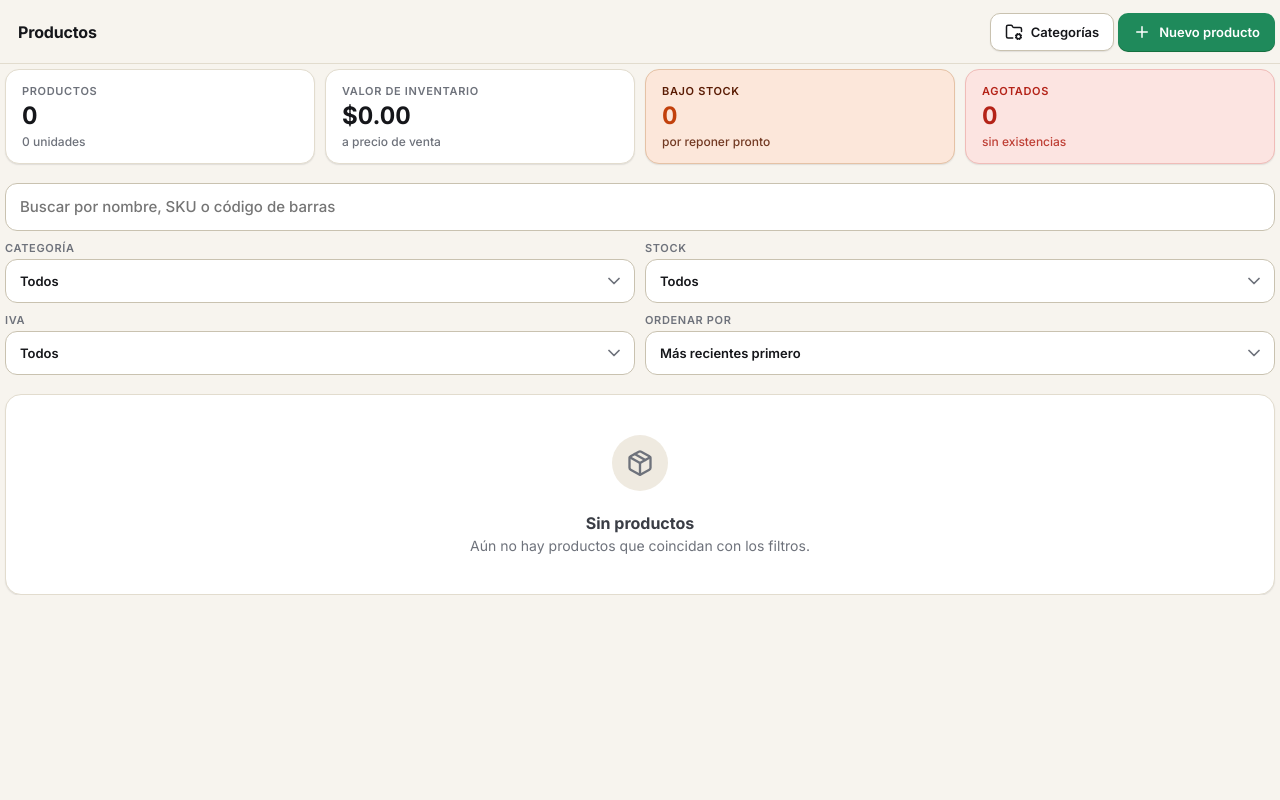
Productos — categoría del formulario › create falls back to the FIRST delivered category when the field is untouched
Step 1. Click the button "Nuevo producto" → (1197, 32), box [1118,12,1275,50]
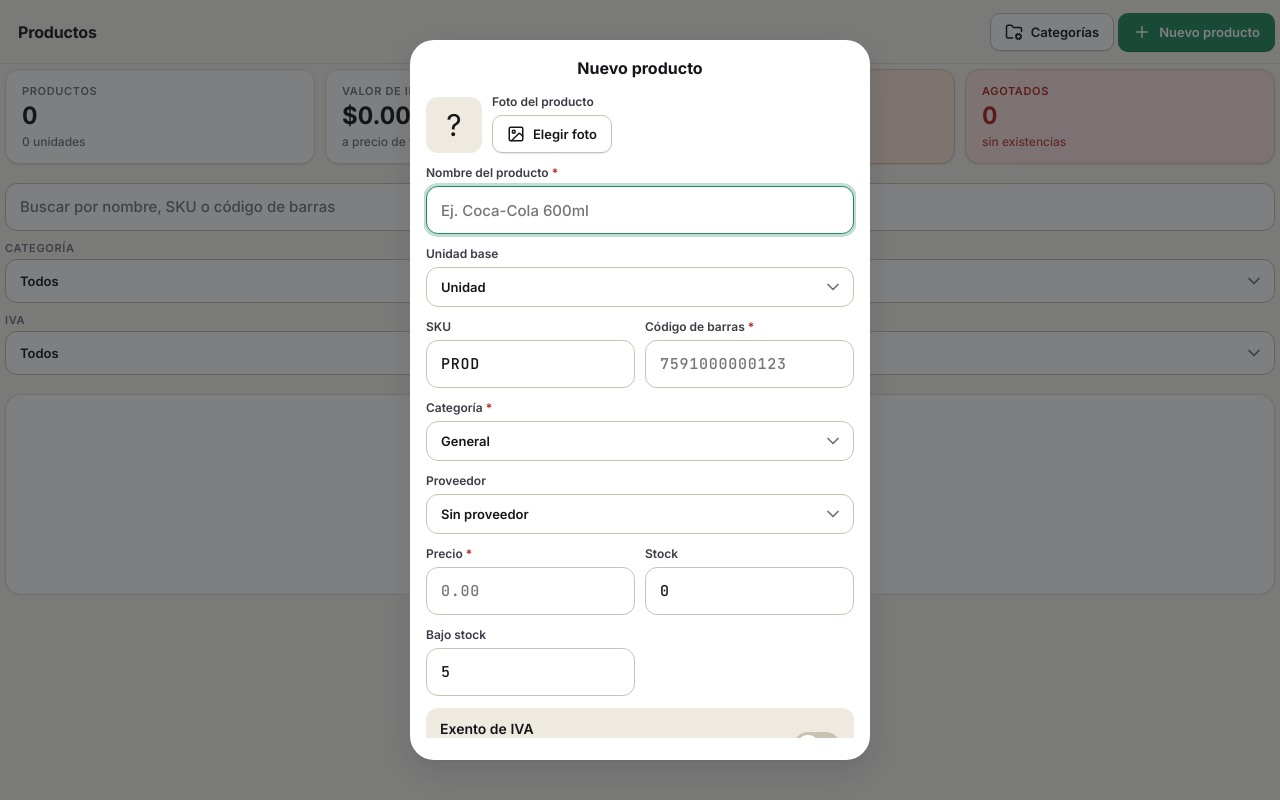
Step 2. Type "Producto nuevo" into the field with placeholder "Ej. Coca-Cola 600ml" → (640, 210), box [426,186,854,234]
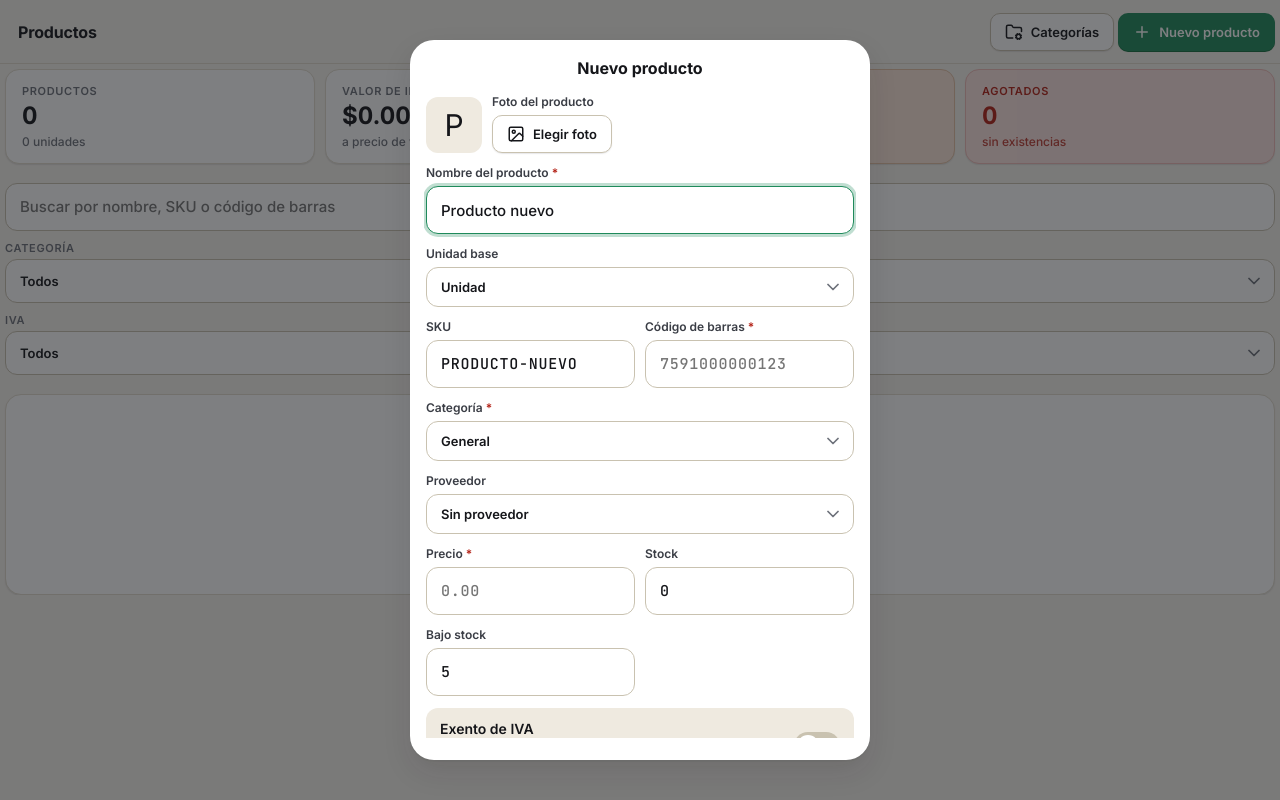
Step 3. Type "7591111111" into the field with placeholder "7591000000123" → (750, 364), box [645,340,854,388]
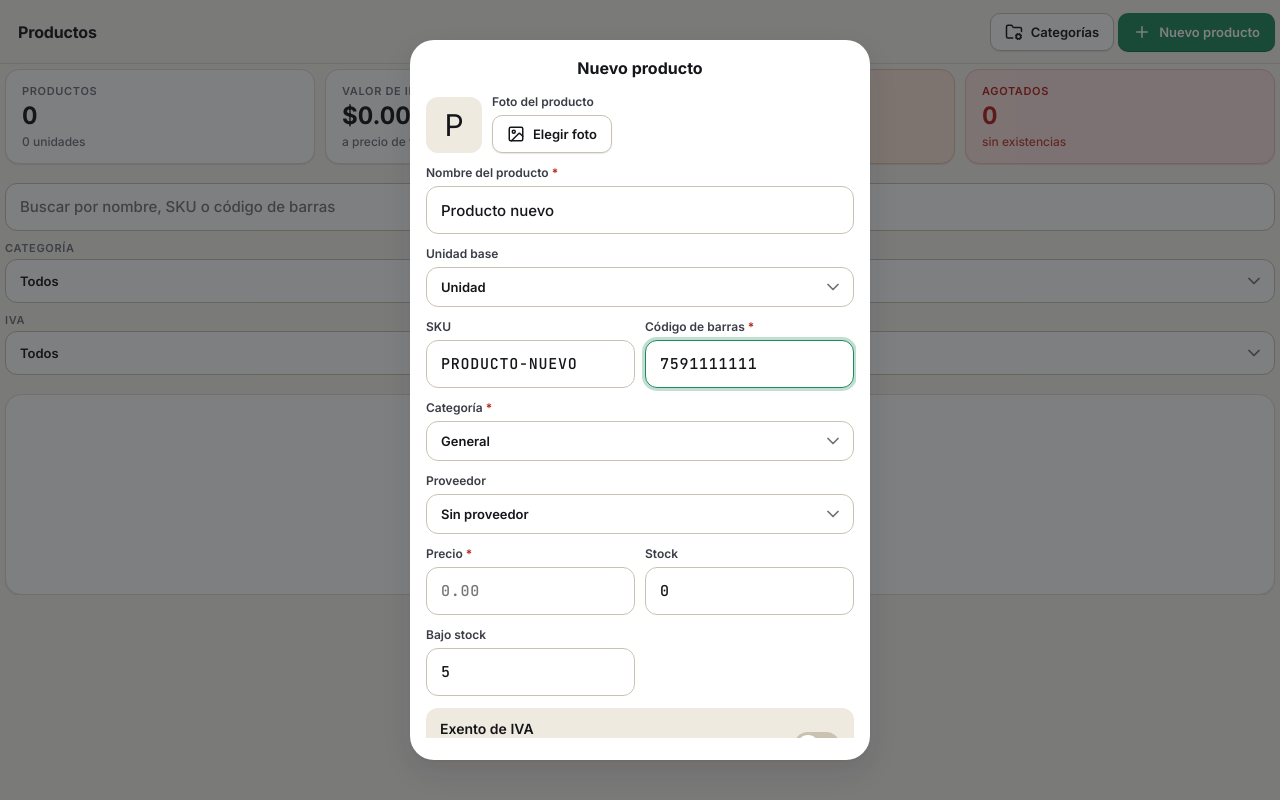
Step 4. Type "3.50" into the field with placeholder "0.00" → (530, 591), box [426,567,635,615]
(page scrolled)
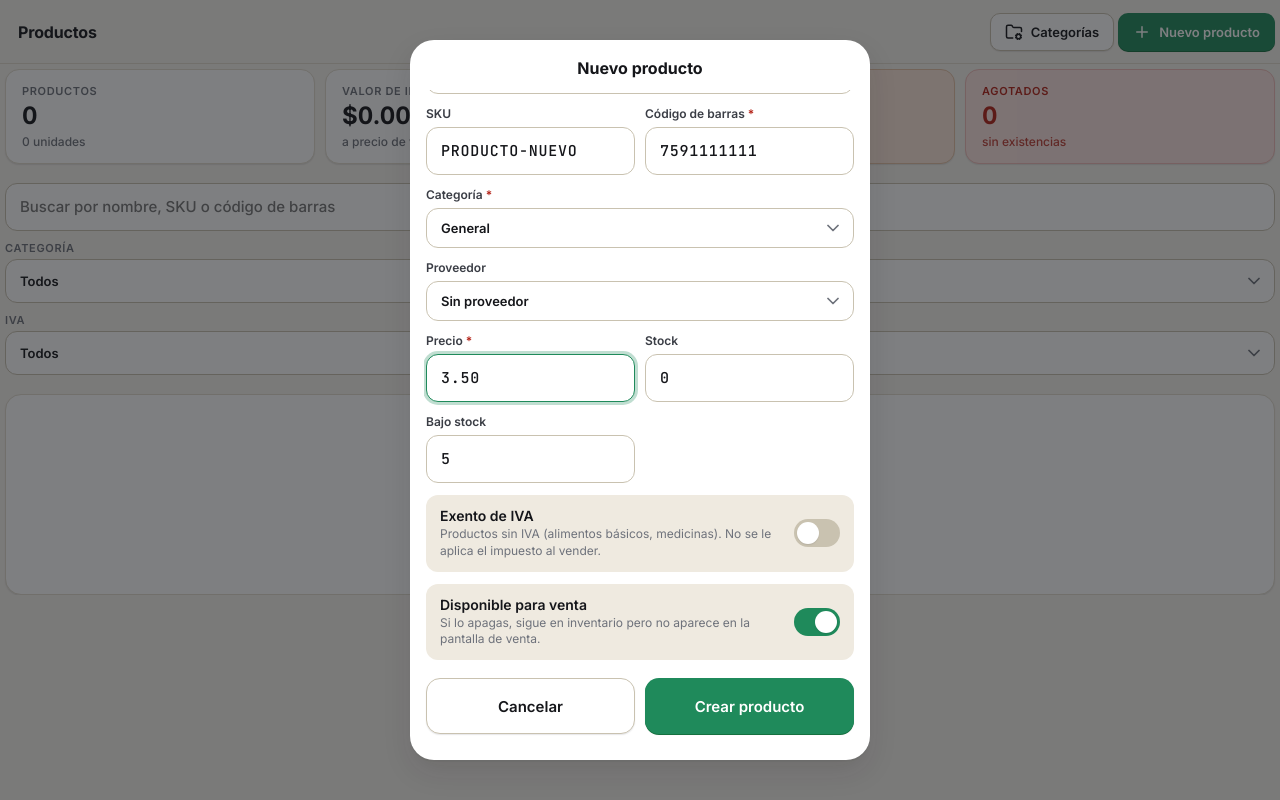
Step 5. Click the button "Crear producto" → (750, 706), box [645,678,854,734]
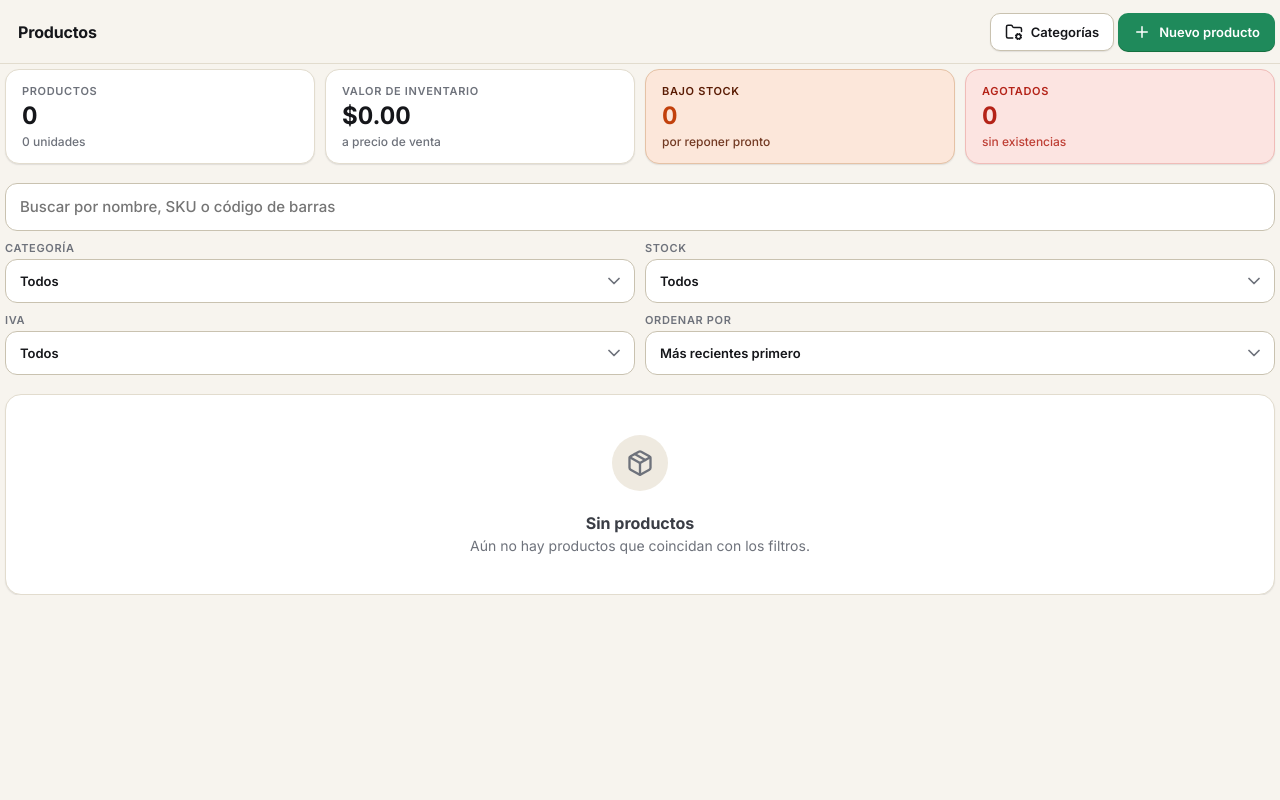
Expected: the button "Crear producto" is gone
